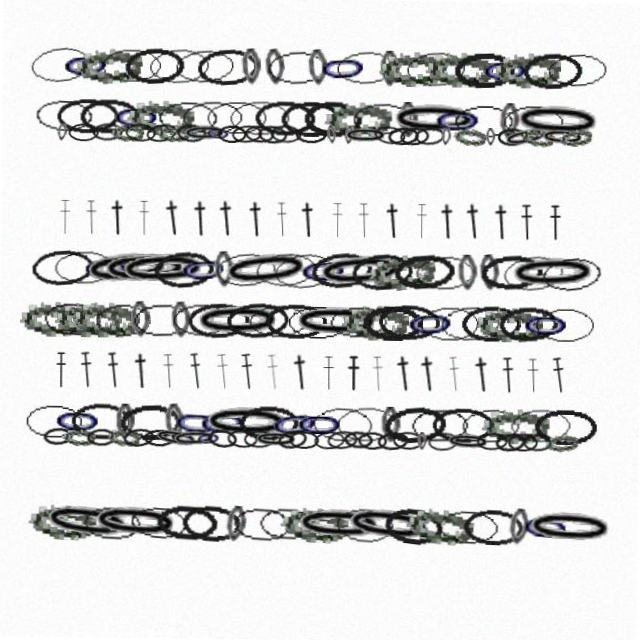chain: (43, 502, 136, 548), (219, 248, 312, 293), (345, 502, 438, 547), (81, 249, 173, 293), (314, 250, 406, 292), (92, 504, 184, 545), (117, 251, 208, 291), (527, 505, 618, 545), (510, 99, 601, 138), (507, 251, 598, 290), (296, 505, 387, 544), (99, 252, 190, 290), (193, 303, 283, 341), (387, 100, 477, 137), (203, 405, 293, 442), (292, 304, 382, 340), (366, 249, 437, 293), (71, 47, 141, 89), (500, 249, 566, 292), (490, 47, 559, 88), (408, 504, 477, 545), (25, 46, 90, 89), (271, 250, 336, 292), (538, 250, 603, 292), (376, 48, 444, 87), (322, 99, 390, 138), (31, 505, 99, 544), (283, 505, 351, 544), (385, 504, 448, 546), (253, 250, 317, 291), (309, 250, 373, 291), (384, 403, 448, 444), (213, 251, 278, 291), (170, 48, 234, 88), (30, 251, 94, 291), (144, 48, 209, 87), (193, 48, 256, 88), (350, 251, 413, 291), (392, 251, 455, 291), (130, 505, 193, 545), (483, 405, 551, 442), (479, 251, 543, 290), (152, 251, 214, 291), (423, 49, 490, 86), (20, 303, 87, 340), (73, 303, 140, 340), (342, 303, 409, 340), (262, 48, 325, 87), (331, 48, 394, 87), (401, 48, 464, 87), (226, 302, 289, 341), (183, 505, 246, 544), (187, 303, 251, 341), (312, 405, 376, 443), (438, 506, 502, 544), (121, 48, 183, 87), (543, 48, 605, 87), (439, 302, 501, 341), (158, 505, 220, 544), (233, 505, 295, 544), (336, 505, 398, 544), (125, 101, 192, 137), (55, 304, 122, 340), (476, 304, 543, 340), (413, 252, 476, 290), (120, 405, 183, 443), (52, 252, 116, 289), (450, 49, 512, 87), (519, 49, 581, 87), (31, 100, 93, 138), (247, 303, 309, 341), (327, 303, 389, 341), (498, 303, 560, 341), (83, 506, 145, 544), (178, 100, 241, 137), (226, 100, 289, 137), (348, 100, 411, 137), (378, 303, 441, 340), (336, 405, 399, 442), (510, 405, 573, 442), (93, 303, 154, 341), (465, 506, 526, 544), (41, 303, 103, 340), (499, 101, 562, 137), (265, 304, 328, 340), (286, 304, 349, 340), (418, 304, 481, 340), (269, 403, 323, 445), (433, 406, 496, 442), (535, 406, 598, 442), (131, 303, 192, 340), (171, 303, 232, 340), (72, 405, 133, 442), (410, 405, 471, 442), (461, 405, 522, 442), (259, 506, 320, 543), (97, 50, 159, 86), (54, 101, 116, 137), (154, 101, 216, 137), (203, 101, 265, 137), (252, 101, 314, 137), (278, 101, 340, 137), (450, 101, 512, 137), (301, 100, 361, 137), (461, 303, 521, 340), (77, 101, 138, 137), (362, 304, 423, 340), (534, 304, 595, 340), (25, 406, 86, 442), (240, 406, 301, 442), (57, 48, 109, 87), (314, 48, 366, 87), (177, 251, 229, 290), (297, 251, 349, 290), (198, 404, 250, 443), (522, 505, 574, 544), (477, 49, 528, 87), (405, 303, 456, 341), (173, 405, 224, 443), (430, 100, 481, 137), (54, 405, 104, 442), (109, 101, 159, 137), (81, 253, 131, 289), (521, 304, 571, 340), (296, 406, 346, 442), (500, 122, 547, 148), (154, 428, 201, 452), (173, 430, 218, 450), (447, 430, 492, 450), (227, 506, 250, 544), (180, 125, 225, 144), (538, 125, 583, 144), (510, 506, 533, 543), (261, 49, 283, 86), (304, 49, 326, 86), (478, 252, 500, 289), (165, 405, 187, 442), (341, 126, 386, 144), (255, 431, 300, 449), (556, 123, 591, 146), (238, 49, 259, 86), (213, 252, 234, 289), (130, 303, 151, 340), (546, 429, 581, 451), (171, 303, 191, 340), (278, 428, 310, 451), (143, 124, 176, 146), (377, 50, 397, 86), (396, 101, 416, 137), (497, 101, 517, 137), (457, 253, 477, 289), (382, 406, 402, 442), (371, 124, 404, 145), (117, 406, 136, 442), (451, 125, 485, 145), (519, 125, 553, 145), (124, 429, 156, 450), (208, 429, 240, 450), (328, 429, 360, 450), (229, 125, 261, 145), (385, 125, 417, 145), (315, 430, 347, 450), (378, 430, 410, 450), (429, 430, 461, 450), (524, 430, 556, 450), (109, 430, 142, 449), (242, 125, 273, 145), (255, 125, 286, 145), (397, 125, 428, 145), (412, 125, 443, 145), (496, 430, 527, 450), (228, 430, 260, 449), (109, 126, 142, 144), (155, 126, 188, 144), (64, 431, 97, 449), (90, 125, 121, 144), (123, 125, 154, 144), (174, 125, 205, 144), (268, 125, 299, 144), (44, 430, 75, 449), (394, 430, 425, 449), (478, 430, 509, 449), (495, 125, 525, 144), (345, 430, 375, 449), (66, 126, 97, 144), (293, 126, 324, 144), (145, 431, 176, 449), (245, 431, 276, 449), (290, 431, 321, 449), (215, 126, 245, 144), (88, 431, 118, 449), (359, 431, 389, 449), (509, 431, 539, 449), (203, 125, 229, 144), (197, 430, 223, 449), (324, 125, 335, 144), (55, 126, 65, 144), (342, 126, 352, 144), (439, 126, 449, 144), (484, 126, 493, 144), (419, 431, 428, 449)
half_double: (160, 201, 184, 238), (393, 354, 417, 391), (417, 354, 441, 391), (471, 354, 495, 391), (214, 201, 237, 238), (461, 201, 484, 238), (290, 354, 313, 391), (244, 202, 266, 238), (296, 202, 318, 238), (381, 202, 403, 238), (131, 355, 153, 391), (106, 202, 127, 238), (189, 202, 210, 238), (436, 202, 457, 238), (490, 202, 511, 238), (239, 354, 257, 391), (265, 354, 283, 391), (188, 354, 205, 391), (215, 354, 232, 391), (551, 354, 568, 391), (79, 354, 95, 391), (106, 354, 122, 391), (447, 354, 463, 391), (161, 355, 177, 391), (501, 355, 517, 391), (355, 202, 370, 238), (518, 202, 533, 238), (371, 355, 386, 391), (526, 355, 541, 391), (57, 202, 71, 238), (83, 202, 97, 238), (136, 202, 150, 238), (274, 202, 288, 238), (329, 202, 343, 238), (547, 202, 561, 238), (322, 355, 336, 391), (347, 355, 361, 391), (414, 202, 427, 238), (55, 355, 68, 391)
